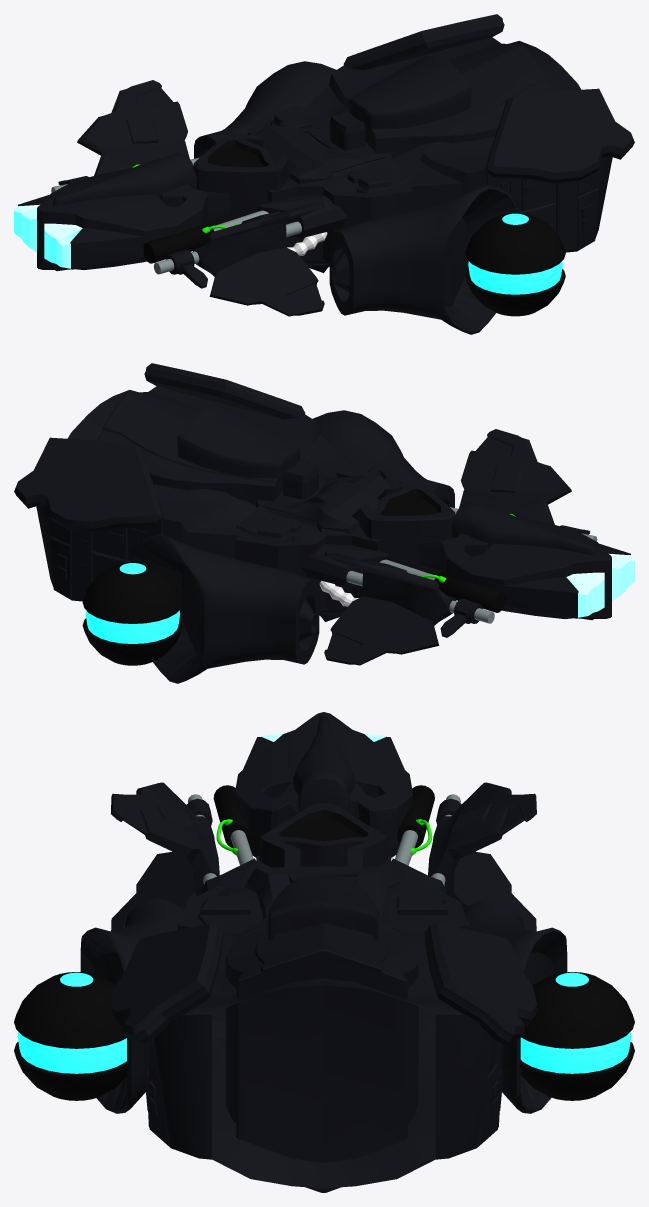
File: SK_Ship_C_Body.fbx
3 views of the same model, one above another, from view 1: azimuth 30°, elevation 25°; view 2: azimuth 150°, elevation 25°; view 3: azimuth 270°, elevation 25° (orthographic). The views are drawn at different scales.
Visible parts, largest first — view 1: SK_Corvette_C_Body; view 2: SK_Corvette_C_Body; view 3: SK_Corvette_C_Body.
Boxes of the visible parts, bbox=[...] form: SK_Corvette_C_Body: bbox=[14, 14, 634, 334]; SK_Corvette_C_Body: bbox=[14, 363, 634, 683]; SK_Corvette_C_Body: bbox=[14, 712, 634, 1192].
Size of the model in its own units: 581 by 209 by 480.
